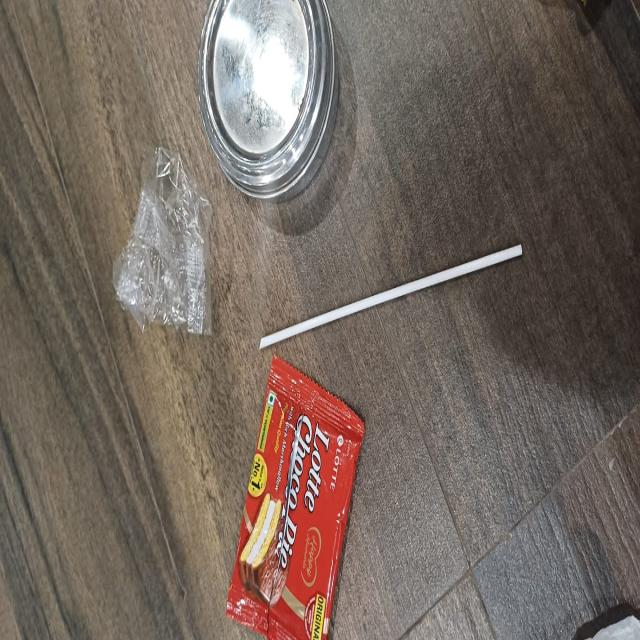Plastic-NonBio: (227, 351, 368, 640), (117, 150, 214, 335)
Steel-NonBio: (191, 2, 345, 215)
Straw-NonBio: (258, 239, 523, 347)
